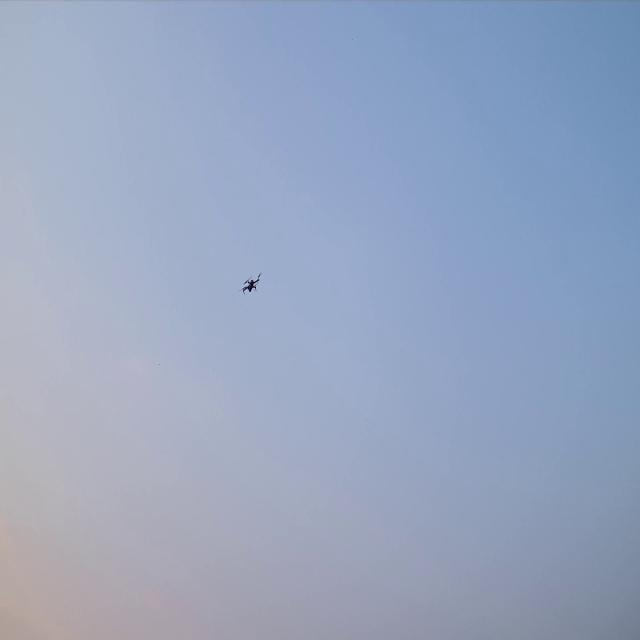UAV: (243, 276, 259, 293)
